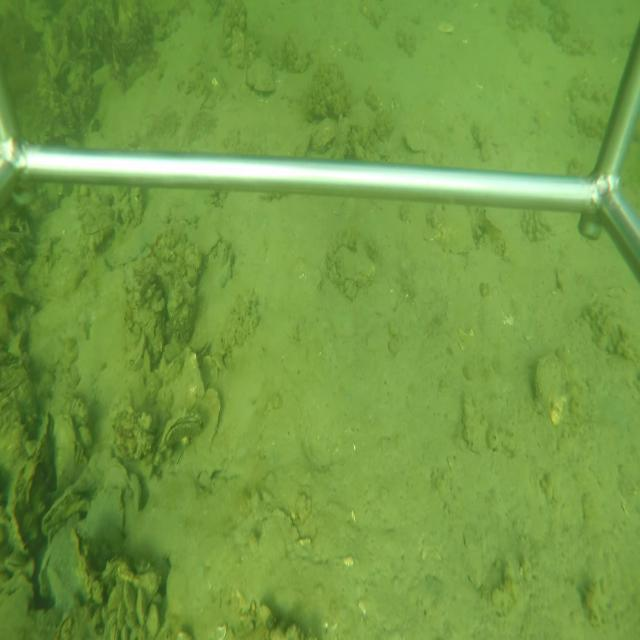Oyster-Closed: (8, 410, 51, 553), (533, 351, 569, 421), (40, 489, 92, 530), (156, 409, 203, 451)
Oyster-Indeterminate: (329, 245, 378, 288), (53, 413, 78, 489), (243, 51, 277, 96), (182, 345, 206, 404), (205, 385, 222, 451)
Oyster-Open: (36, 542, 60, 610)
